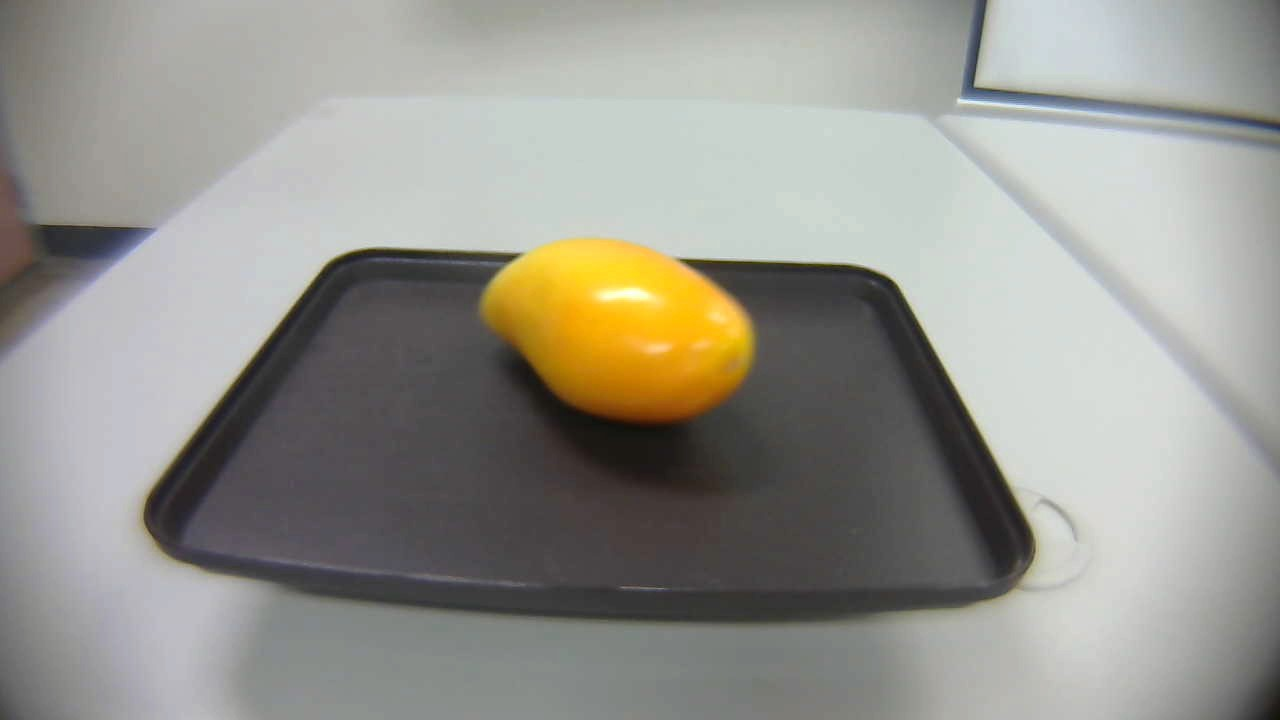yellow mango: (476, 234, 764, 435)
